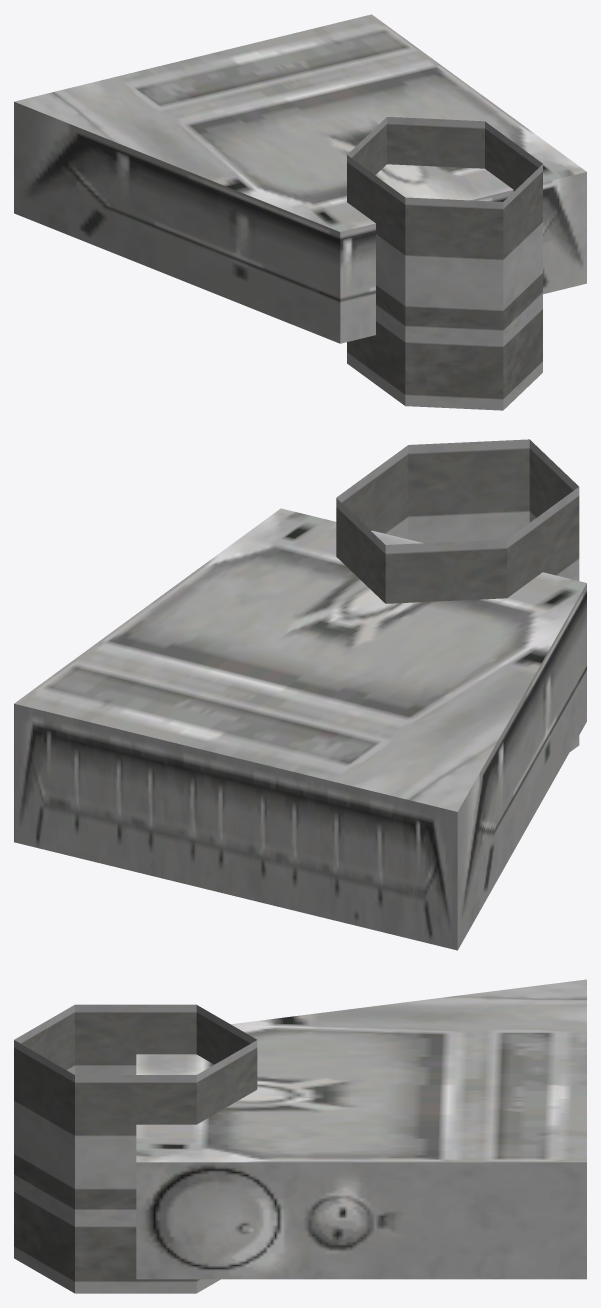
Rendered from PWArmRMount.obj.
The picture shows the model from 3 angles, top to bottom: view 1: azimuth 30°, elevation 25°; view 2: azimuth 150°, elevation 25°; view 3: azimuth 270°, elevation 25°; orthographic projection. The views are drawn at different scales.
Visible parts, largest first — view 1: R_MOUNT0; view 2: R_MOUNT0; view 3: R_MOUNT0.
Boxes of the visible parts, x1,y1,x2,y2 form: R_MOUNT0: (14,14,586,410); R_MOUNT0: (14,439,586,950); R_MOUNT0: (14,979,586,1293).
Bounding box in the file's own units: 10.91 × 6.08 × 14.45.
Materials: 1 (1 with a texture image).
